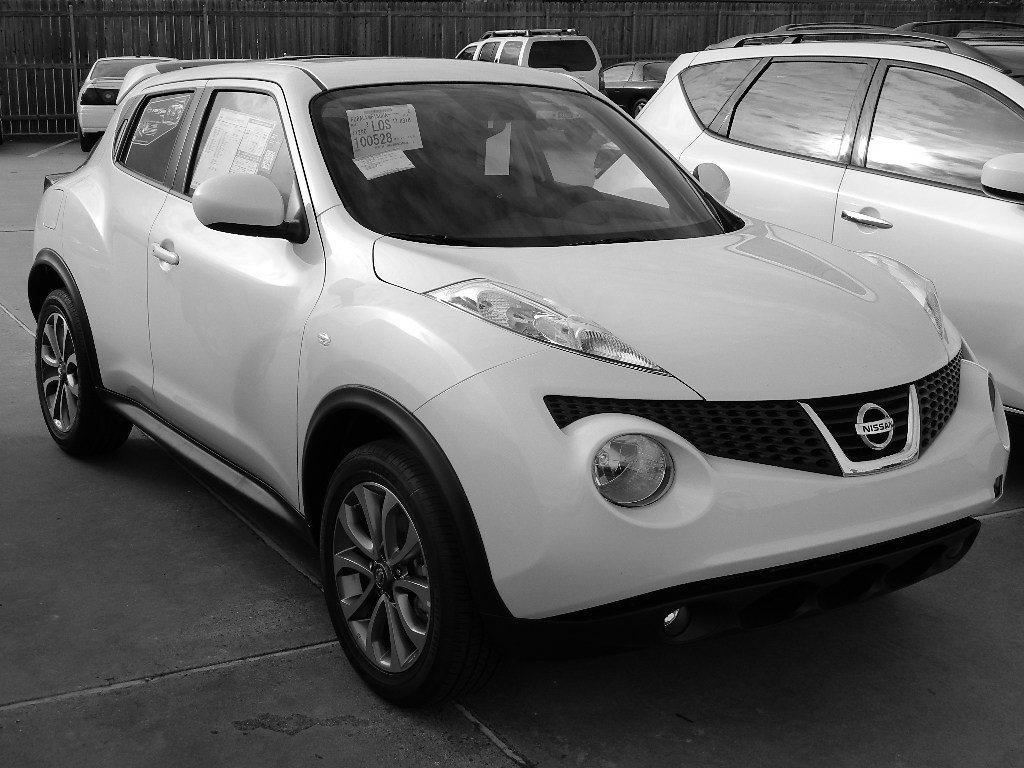car: (32, 59, 1011, 709)
